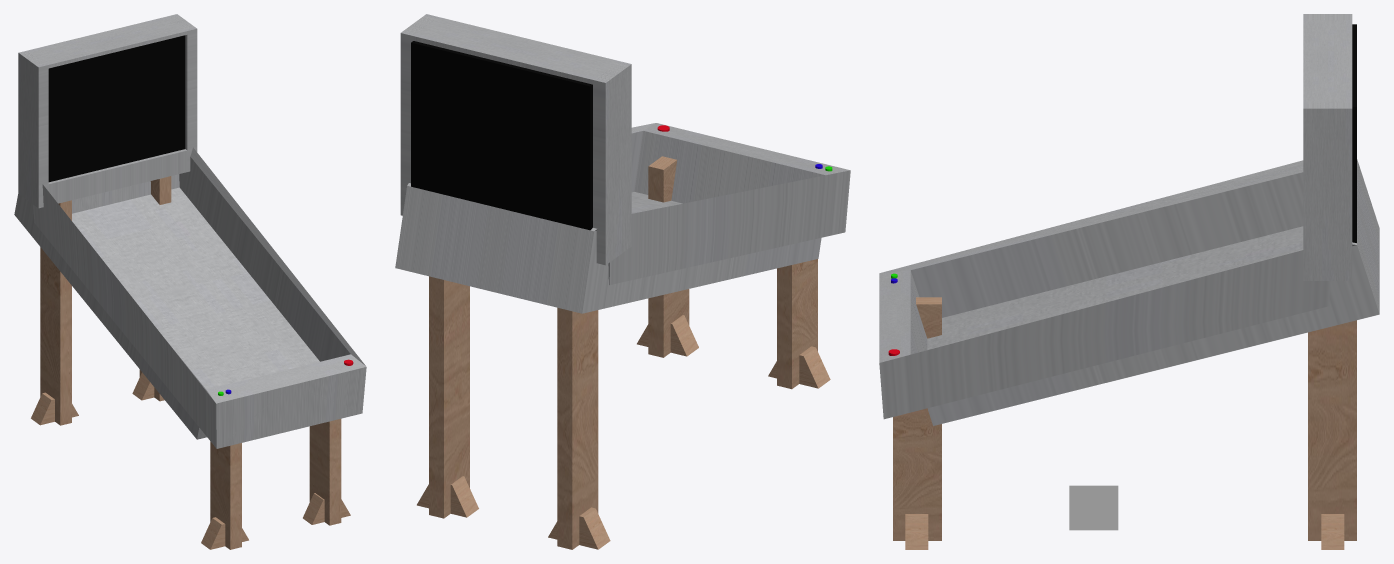
Rendered from pinball.glb.
The picture shows the model from 3 angles, left to right: view 1: azimuth 30°, elevation 25°; view 2: azimuth 150°, elevation 25°; view 3: azimuth 270°, elevation 25°; orthographic projection. The views are drawn at different scales.
Visible parts, largest first — view 1: Cube.001, Cube.003, Cube.007, Cube, Cube.002, Cube.005, Cube.006; view 2: Cube.001, Cube.003, Cube.002, Cube.007, Cube, Cube.006, Cube.005; view 3: Cube.001, Cube.007, Cube.002, Cube, Plane, Cube.003, Cube.005, Cube.006.
Boxes of the visible parts, x1,y1,x2,y2 form: Cube.001: [14, 147, 366, 448]; Cube.003: [48, 35, 185, 182]; Cube.007: [18, 14, 197, 208]; Cube: [210, 419, 341, 549]; Cube.002: [40, 176, 171, 425]; Cube.005: [201, 493, 350, 549]; Cube.006: [31, 372, 154, 425]; Cube.001: [395, 123, 850, 313]; Cube.003: [411, 41, 592, 230]; Cube.002: [429, 276, 598, 549]; Cube.007: [400, 14, 631, 265]; Cube: [648, 156, 817, 389]; Cube.006: [417, 476, 610, 549]; Cube.005: [637, 315, 830, 388]; Cube.001: [879, 159, 1379, 425]; Cube.007: [1303, 14, 1352, 280]; Cube.002: [1308, 320, 1356, 540]; Cube: [893, 297, 941, 540]; Plane: [1069, 485, 1118, 530]; Cube.003: [1352, 24, 1356, 242]; Cube.005: [905, 514, 928, 549]; Cube.006: [1321, 514, 1344, 549].
Size of the model in its own units: 9.14 by 21.11 by 20.42.
Materials: 8 (3 with a texture image).
